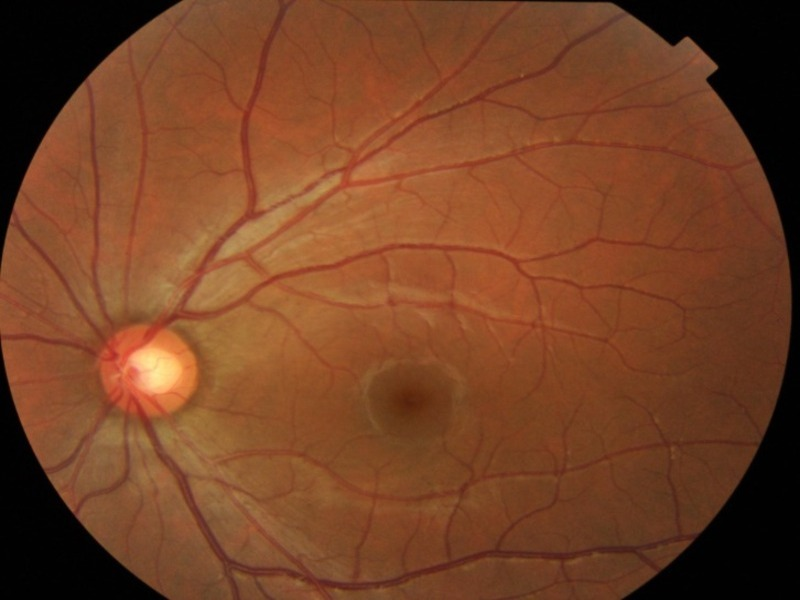Optic Cup: (124, 348, 179, 389)
Optic Disc: (95, 322, 196, 417)
